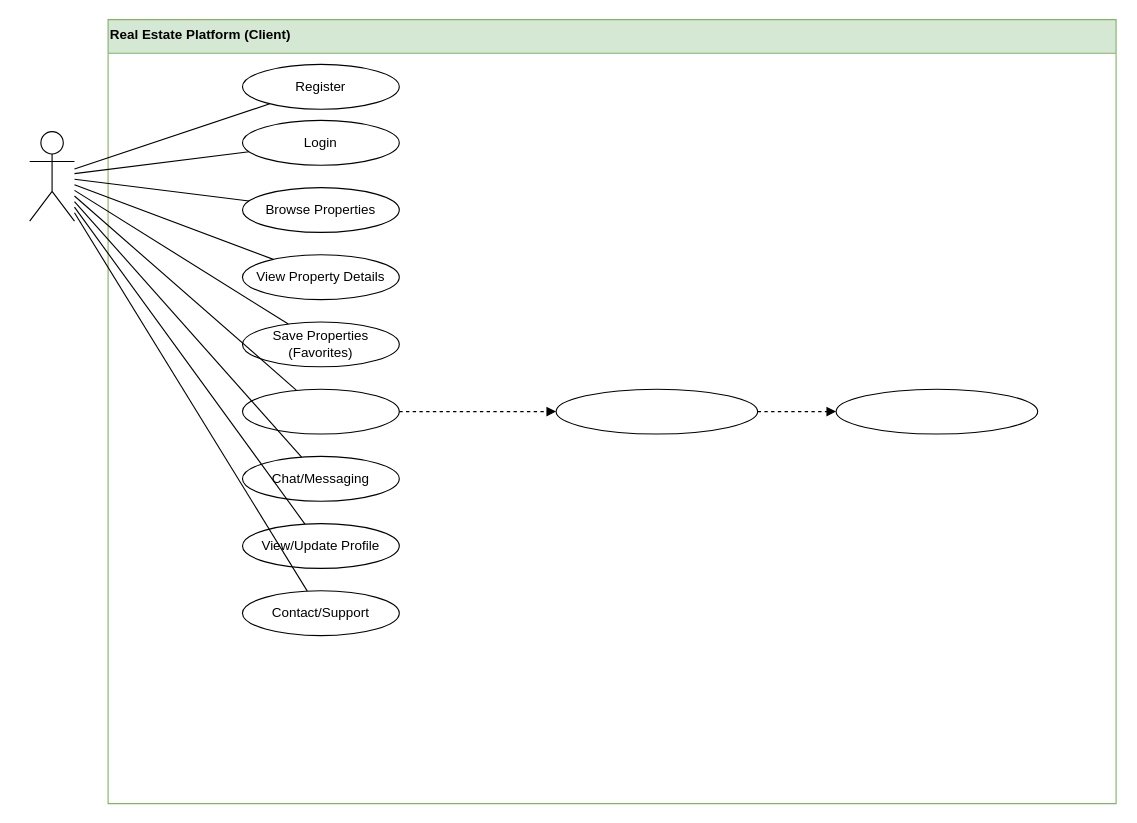
Some shapes in this 1137 by 823 pixel diagram are drawn without their labels. The centre of each missing label's shape, as x and y in pixels:
"Add New Property" goes at point (320, 411).
"Await Admin Approval" goes at point (936, 411).
"Client/User" goes at point (51, 175).
"Submit Property" goes at point (656, 411).
